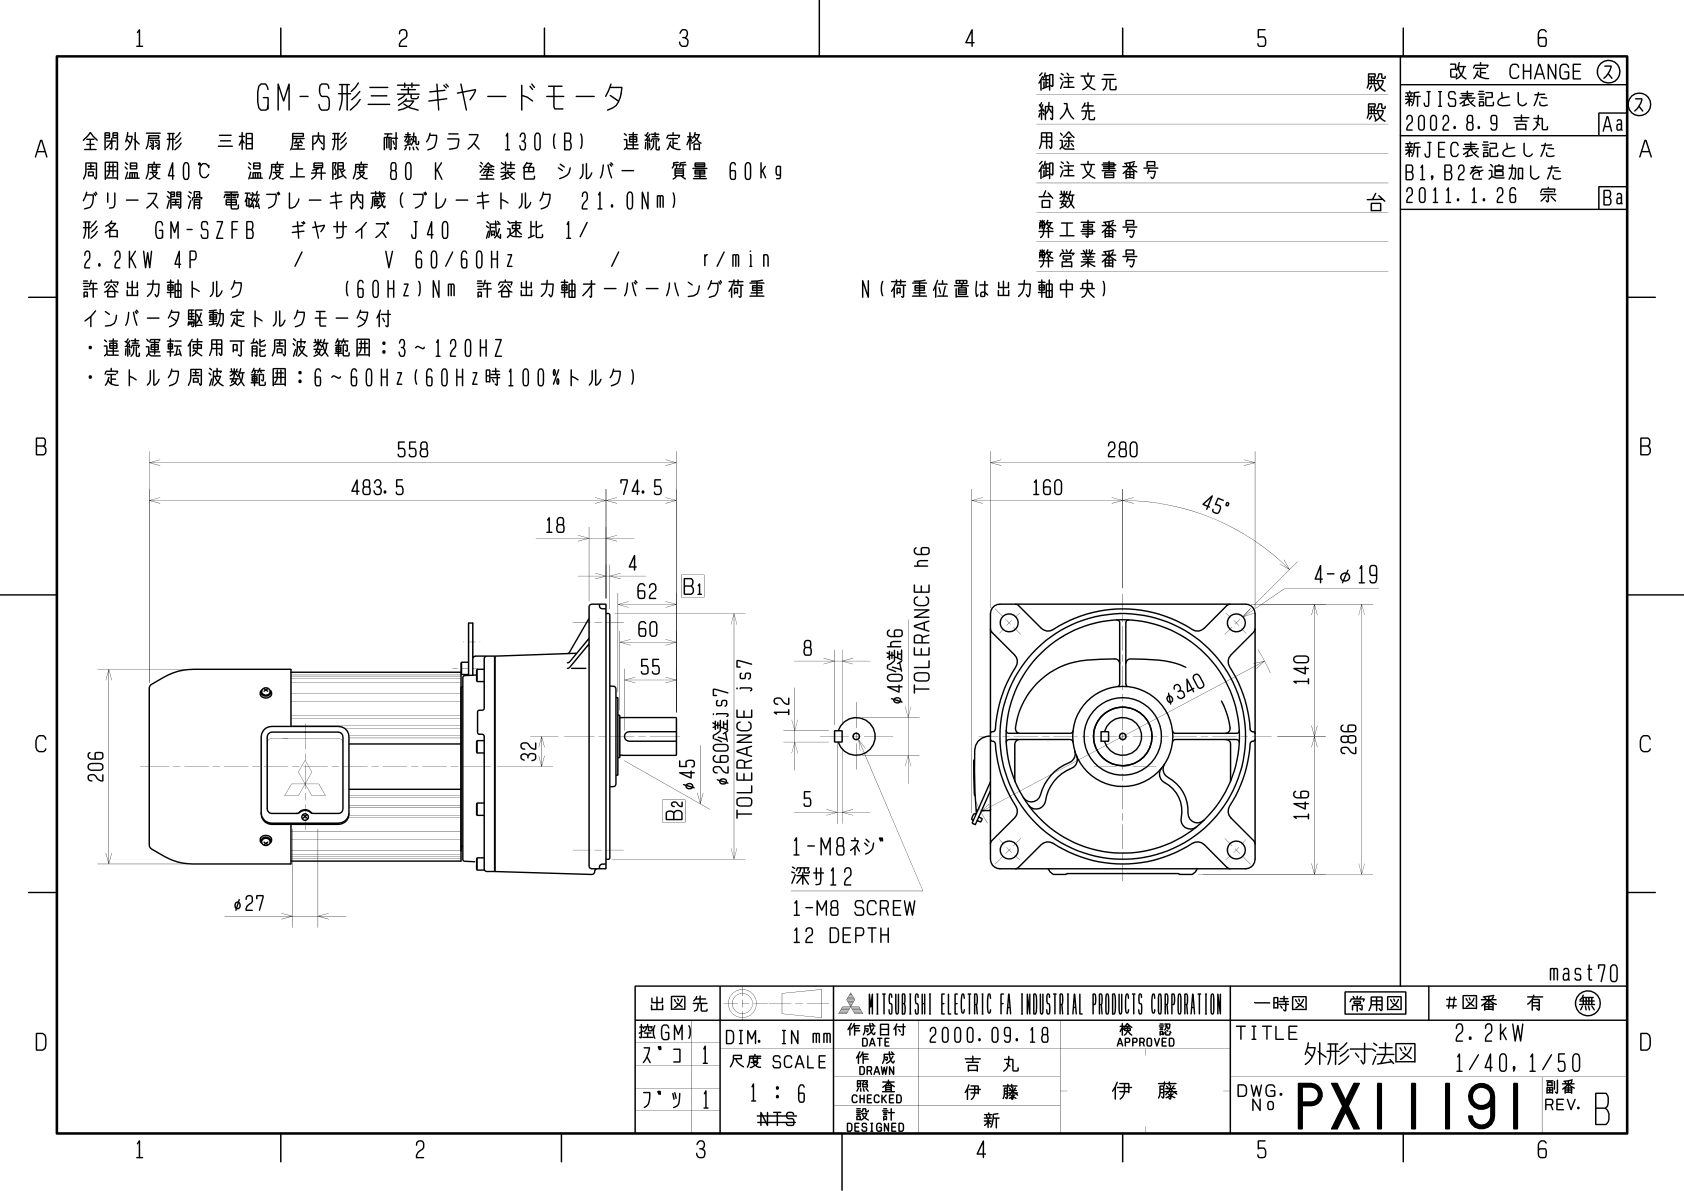GM_S_インバタ屋内＿三相_フランジ: (9, 6, 1684, 1191)
